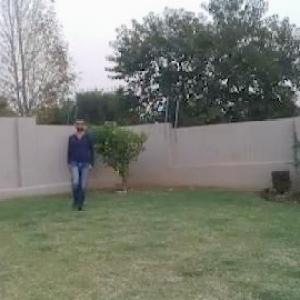follow: (66, 117, 94, 210)
